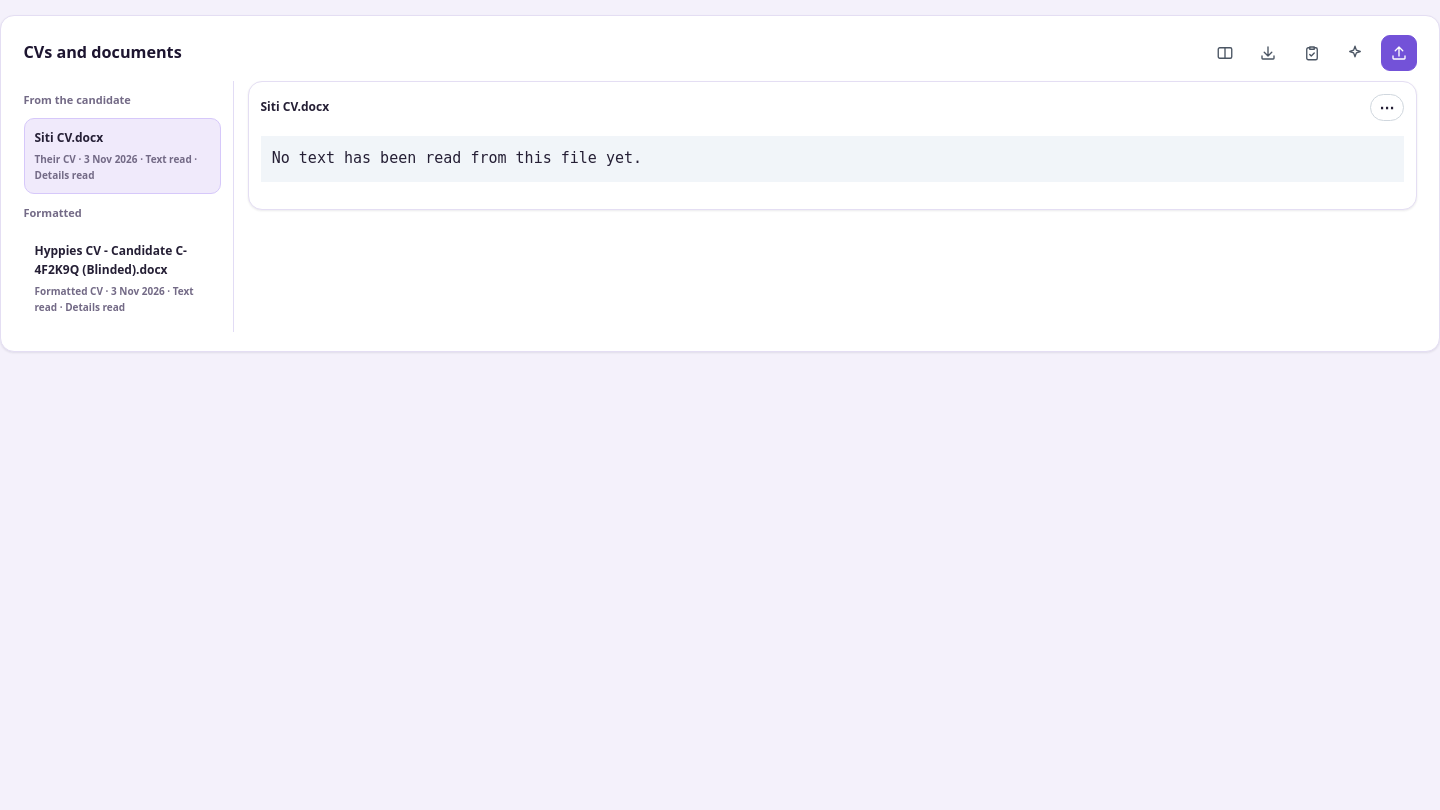
it: formatting a CV › warns about a blind CV only when making another blind one
Expected: the text "Hyppies CV - Candidate C-4F2K9Q (Blinded).docx" is shown, [34,242,210,279]
What coordinates should you click on to do the following:
click the button named "Format a CV"
I would click on:
 (1355, 53)
Its box is [1337,35,1373,71].
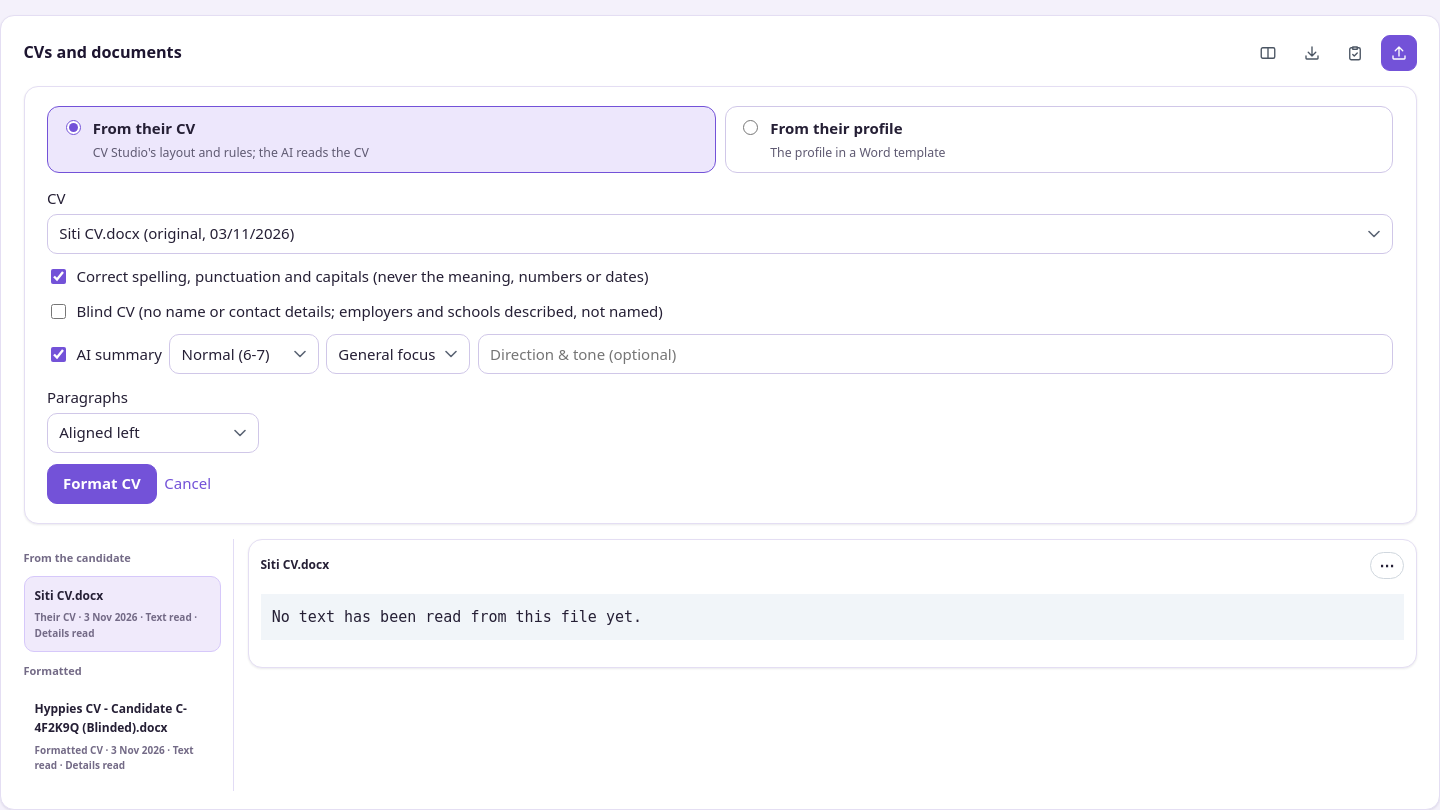
What coordinates should you click on to do the following:
click the checkbox labelled "Blind CV"
I would click on:
 (58, 311)
Its box is [51,304,66,319].
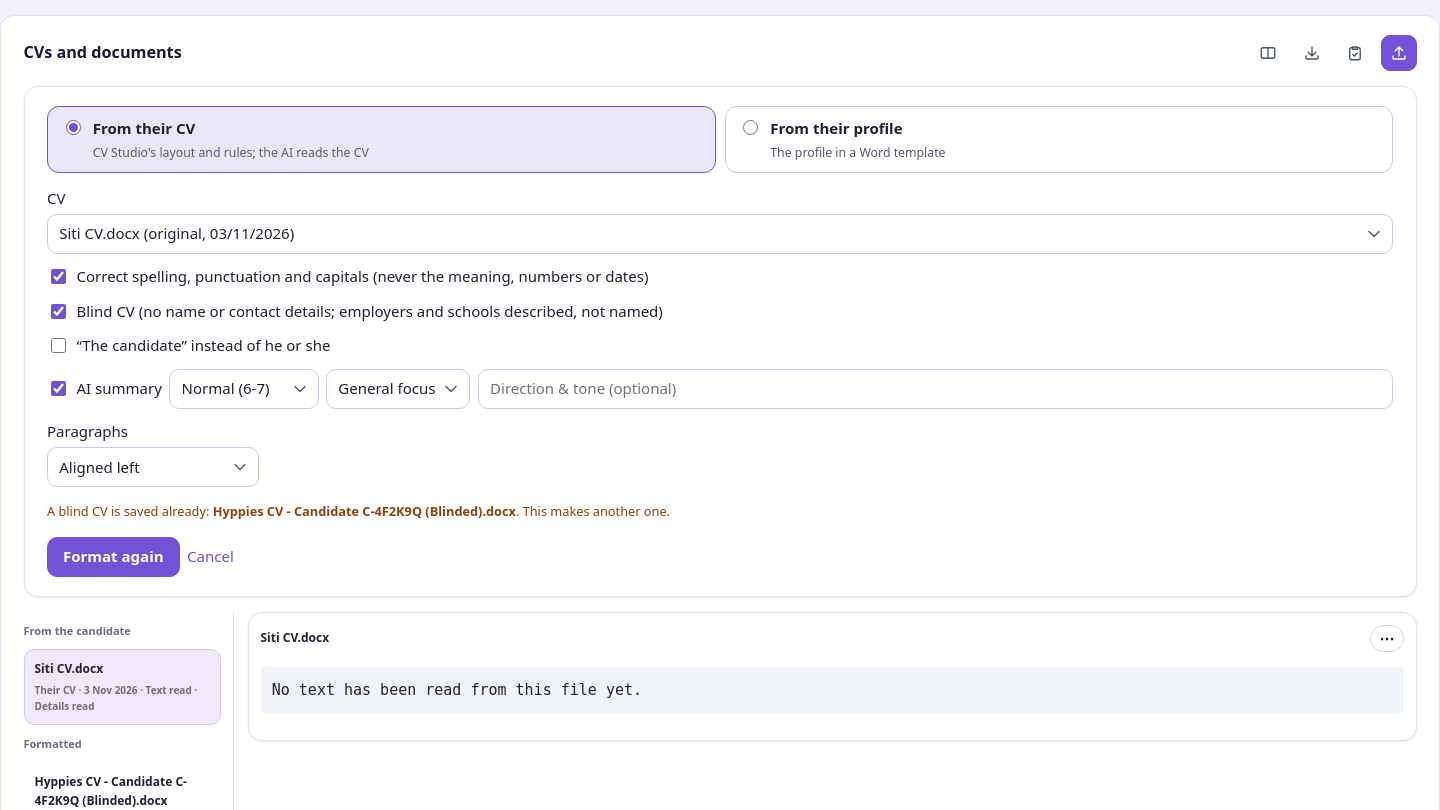
Result: the element that starts with "A blind CV" shows "A blind CV is saved already" at [47,502,670,520]
